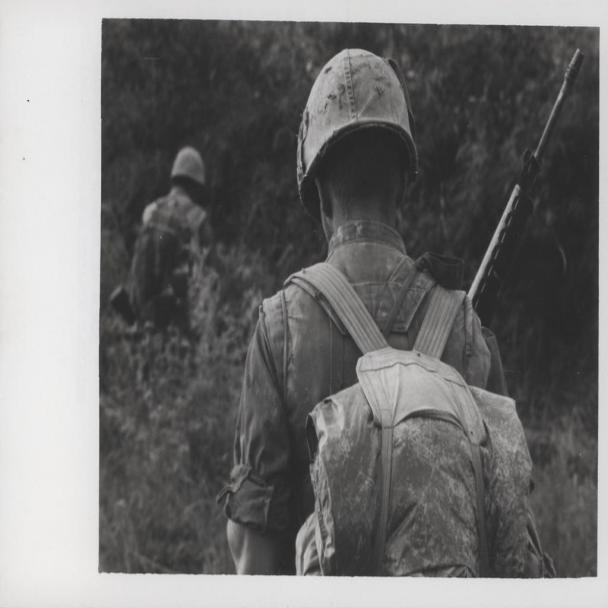Gun: (467, 36, 589, 311)
